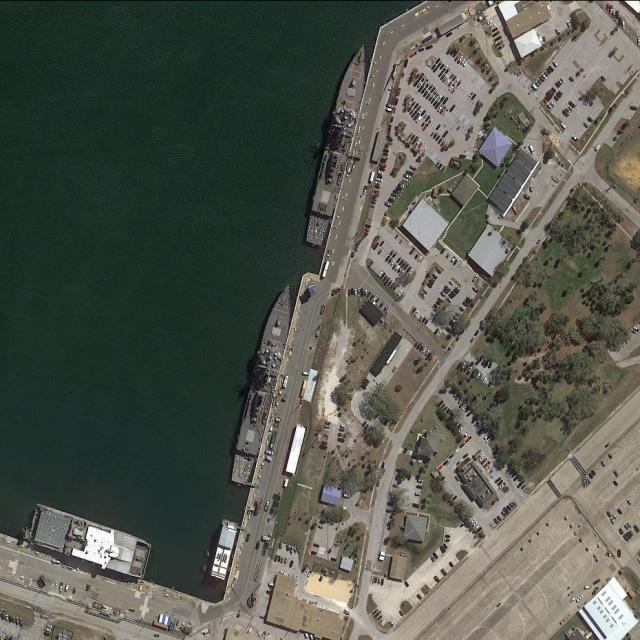Auxiliary Ships: (21, 502, 156, 580)
Destroyer: (228, 279, 298, 486), (304, 40, 372, 248)
